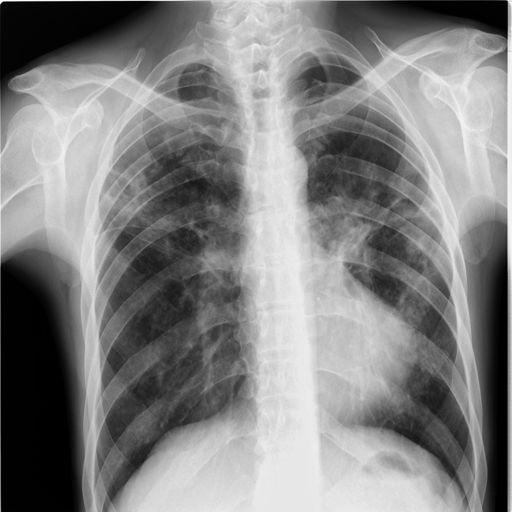TB: (103, 175, 174, 241), (331, 193, 399, 258)
